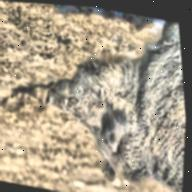boar: (28, 3, 192, 192)
